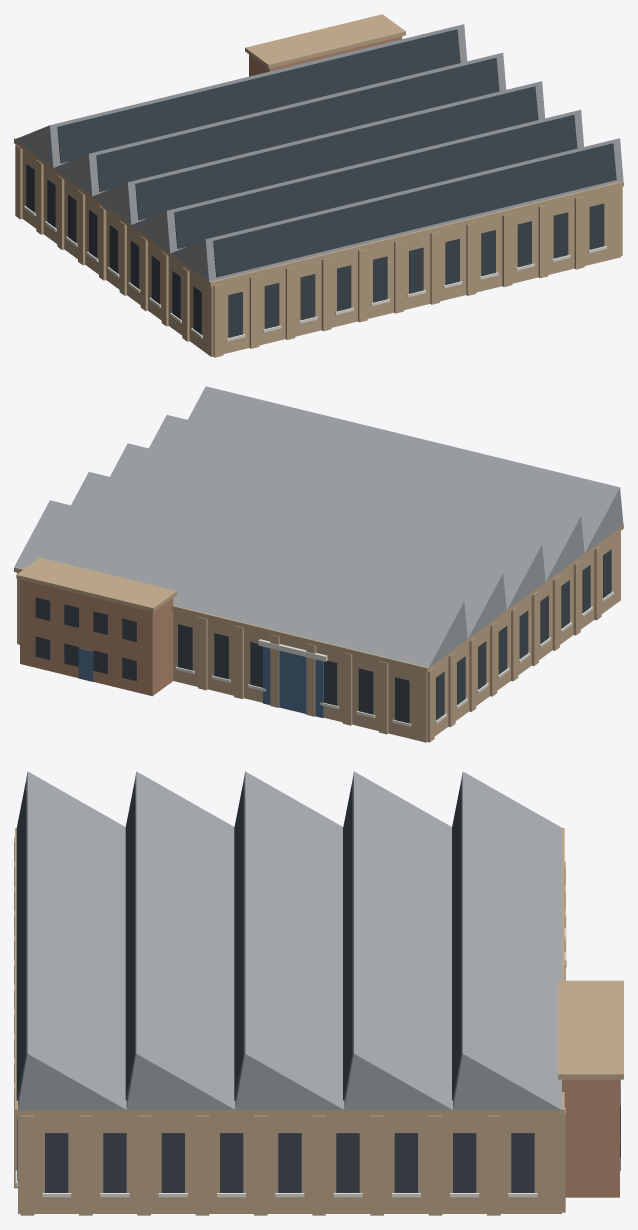
Rendered from works.glb.
The picture shows the model from 3 angles, top to bottom: view 1: azimuth 30°, elevation 25°; view 2: azimuth 150°, elevation 25°; view 3: azimuth 270°, elevation 25°; orthographic projection. The views are drawn at different scales.
Visible parts, largest first — view 1: works; view 2: works; view 3: works.
Boxes of the visible parts, <box> form: works: <box>14,14,623,357</box>; works: <box>14,386,623,742</box>; works: <box>14,771,623,1215</box>.
Bounding box in the file's own units: 34.4 × 9.2 × 31.4.
